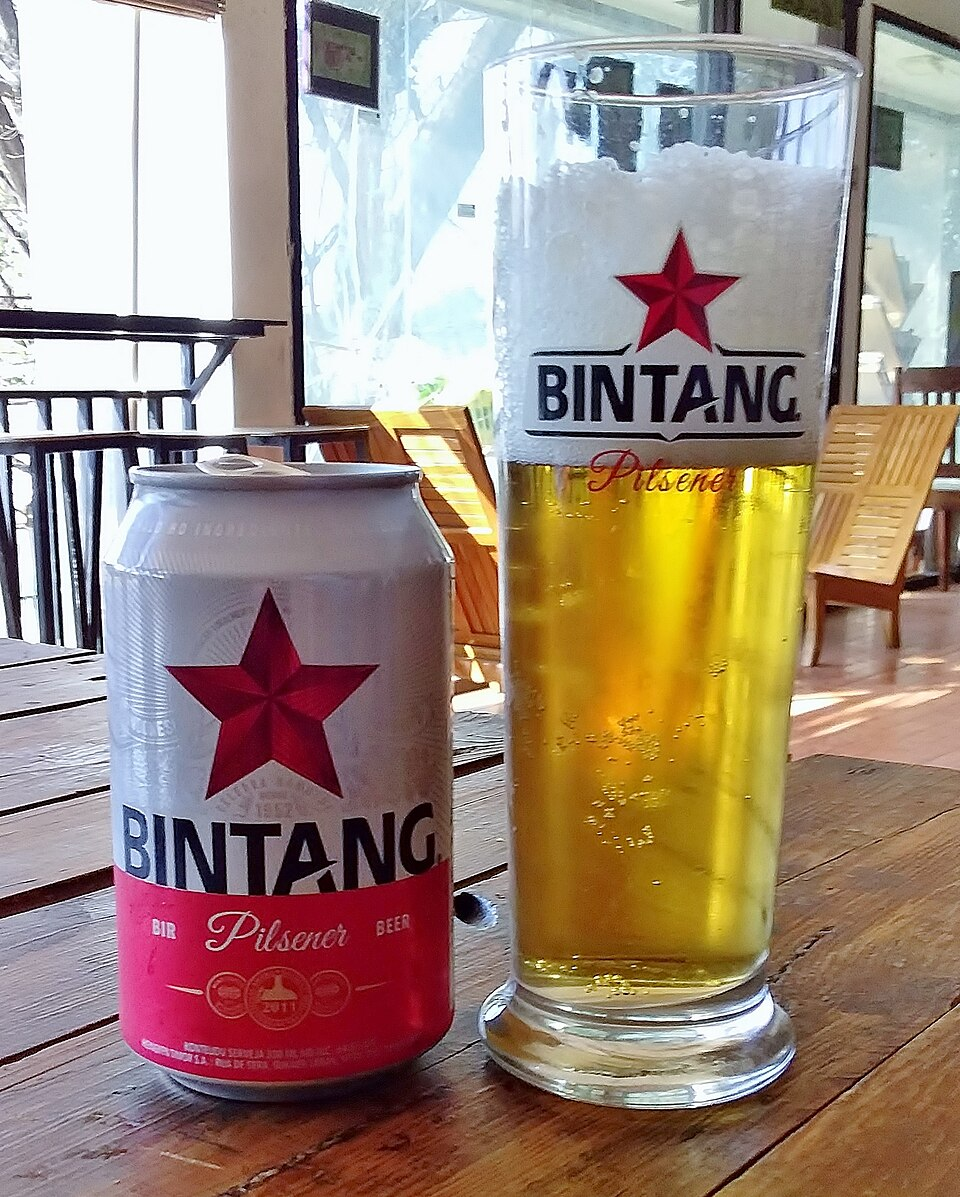beer-can: (98, 437, 467, 1117)
